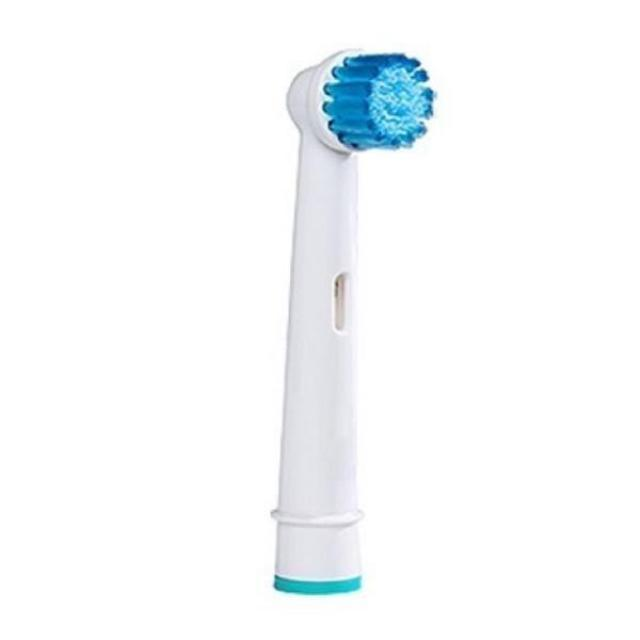toothbrush: (237, 14, 468, 636)
